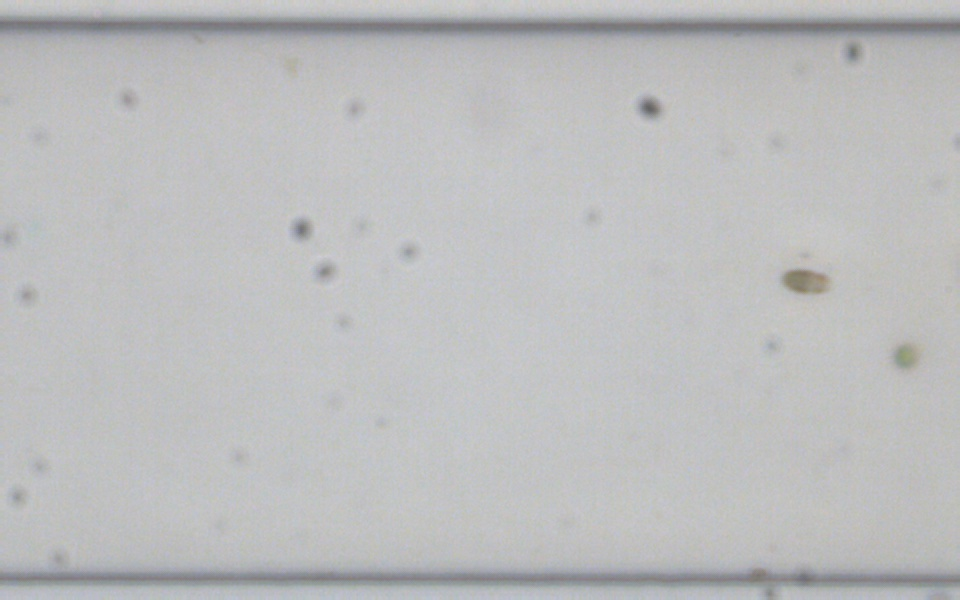Chlorella: (892, 343, 915, 366)
Dunaliella salina: (779, 266, 832, 299)
